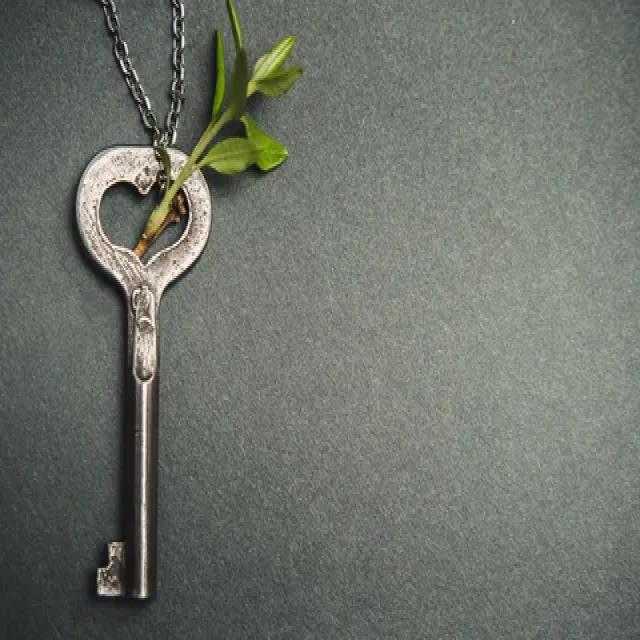key: (63, 138, 218, 614)
